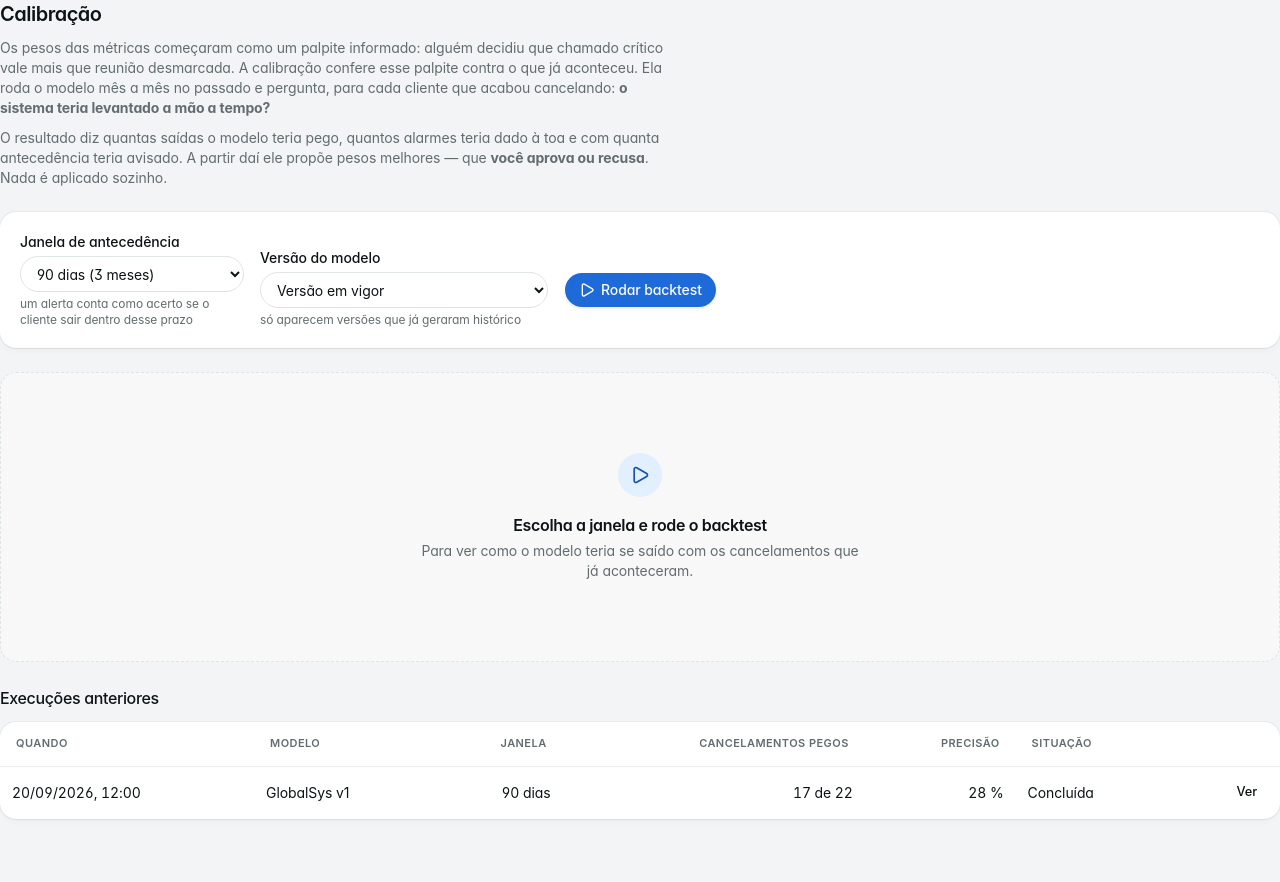
Test case: tela de calibração › aceitar uma, aceitar todas e manter os pesos atuais
The width and height of the screenshot is (1280, 882).
Click the button "Rodar backtest".
click(640, 290)  # box [564,272,717,308]
(page scrolled)
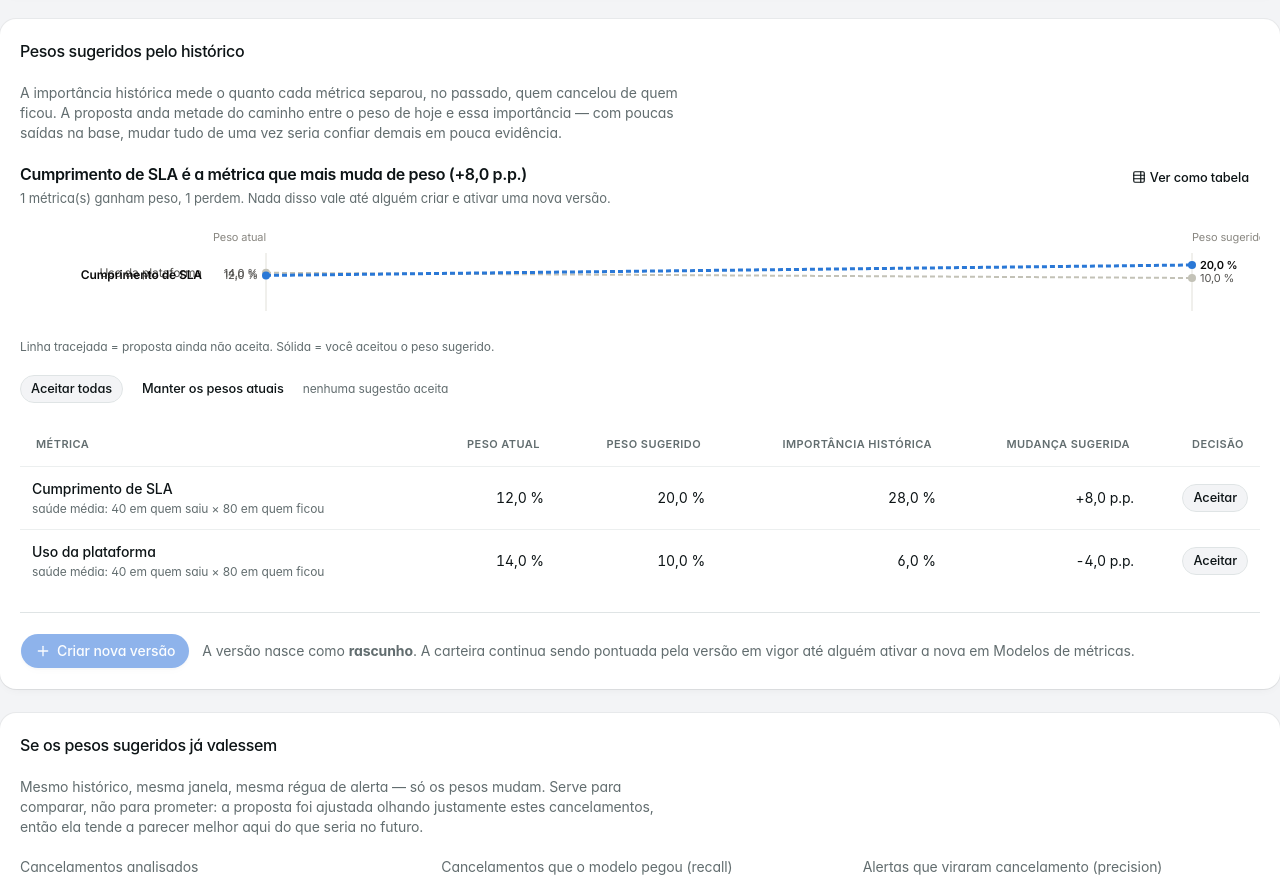
Click the button "Aceitar" in the row of "28,0 %".
click(1215, 498)  # box [1182,484,1248,512]
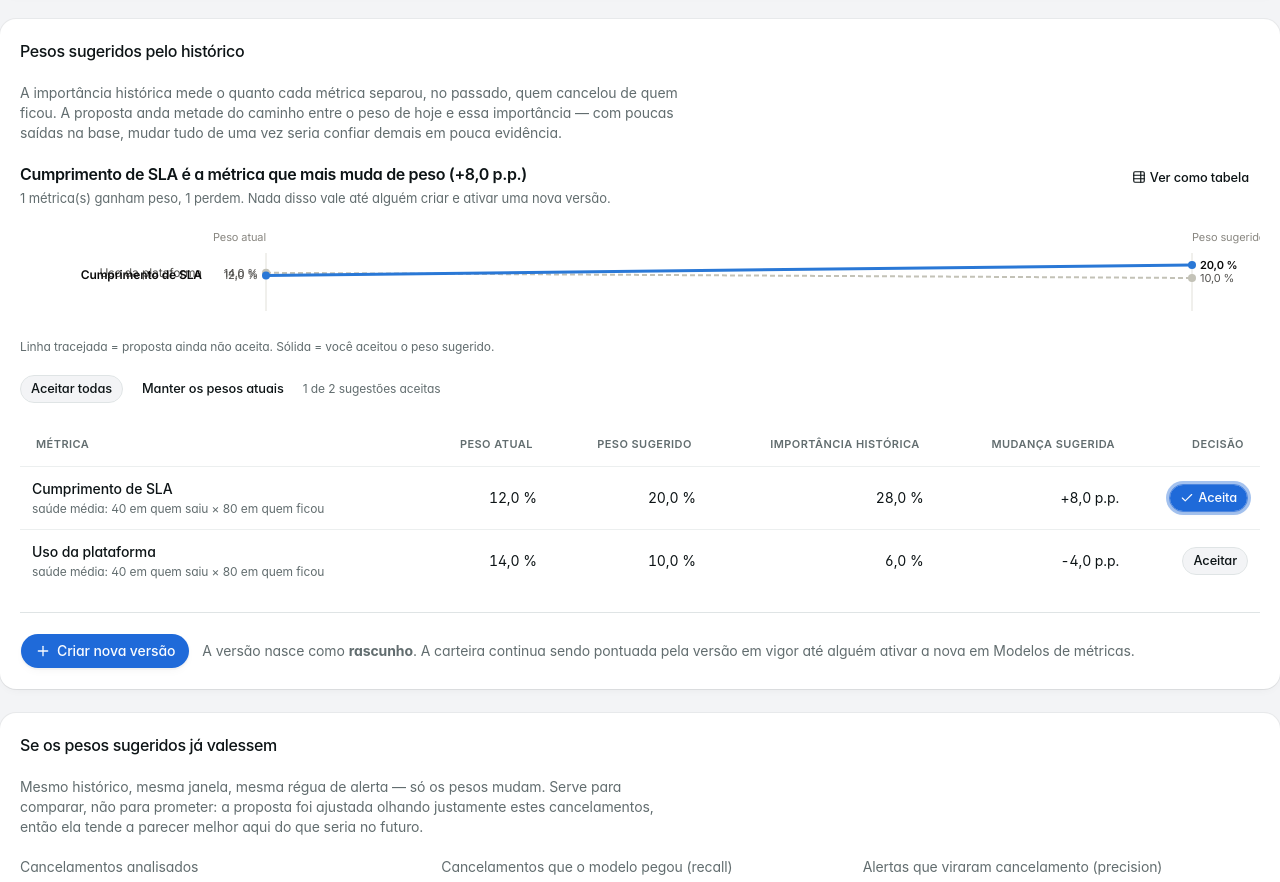
Expected: the text "1 de 2 sugestões aceitas" is shown, [303,381,440,397]
Click the button "Aceitar todas".
click(72, 389)  # box [20,375,123,403]
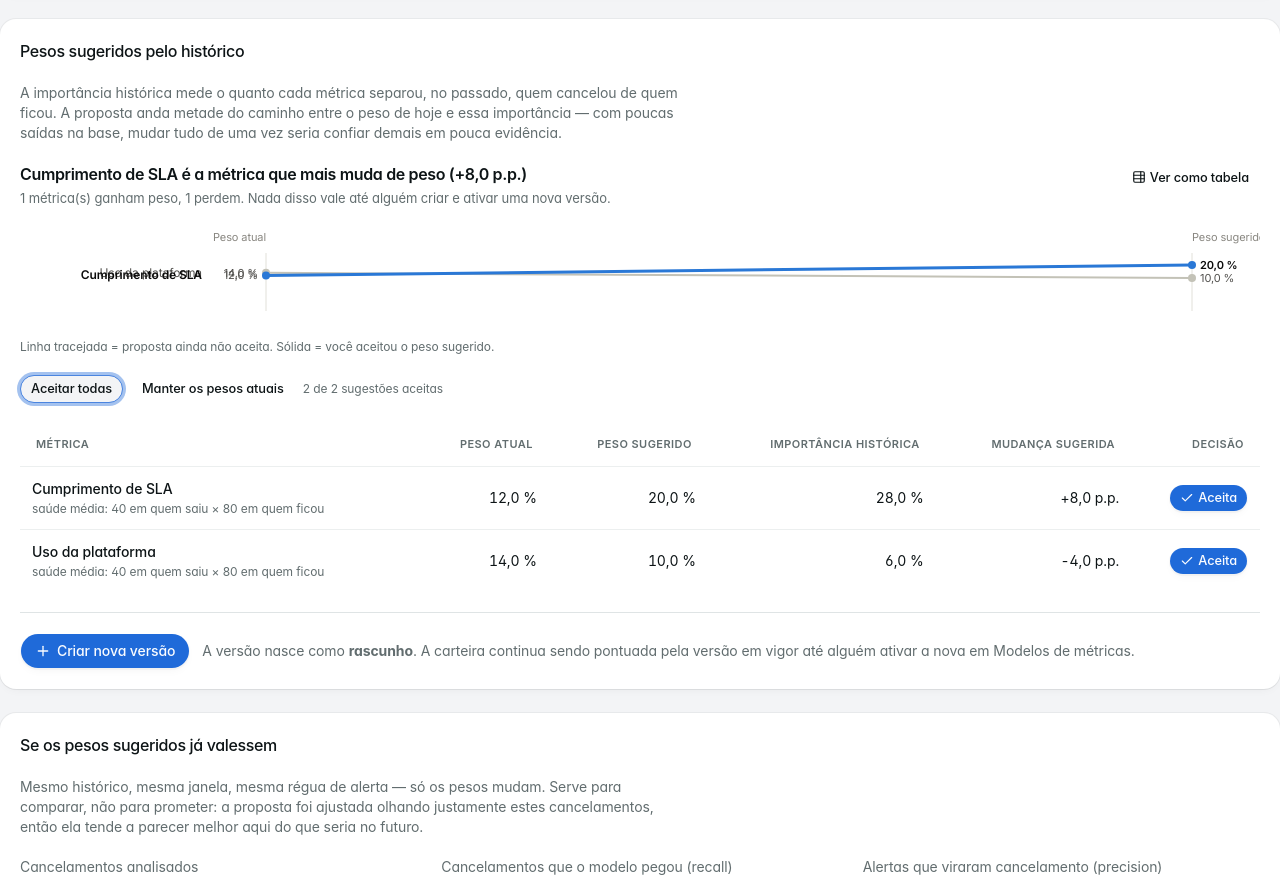
Expected: the text "2 de 2 sugestões aceitas" is shown, [303,381,443,397]
Click the button "Manter os pesos atuais".
click(213, 389)  # box [131,375,295,403]
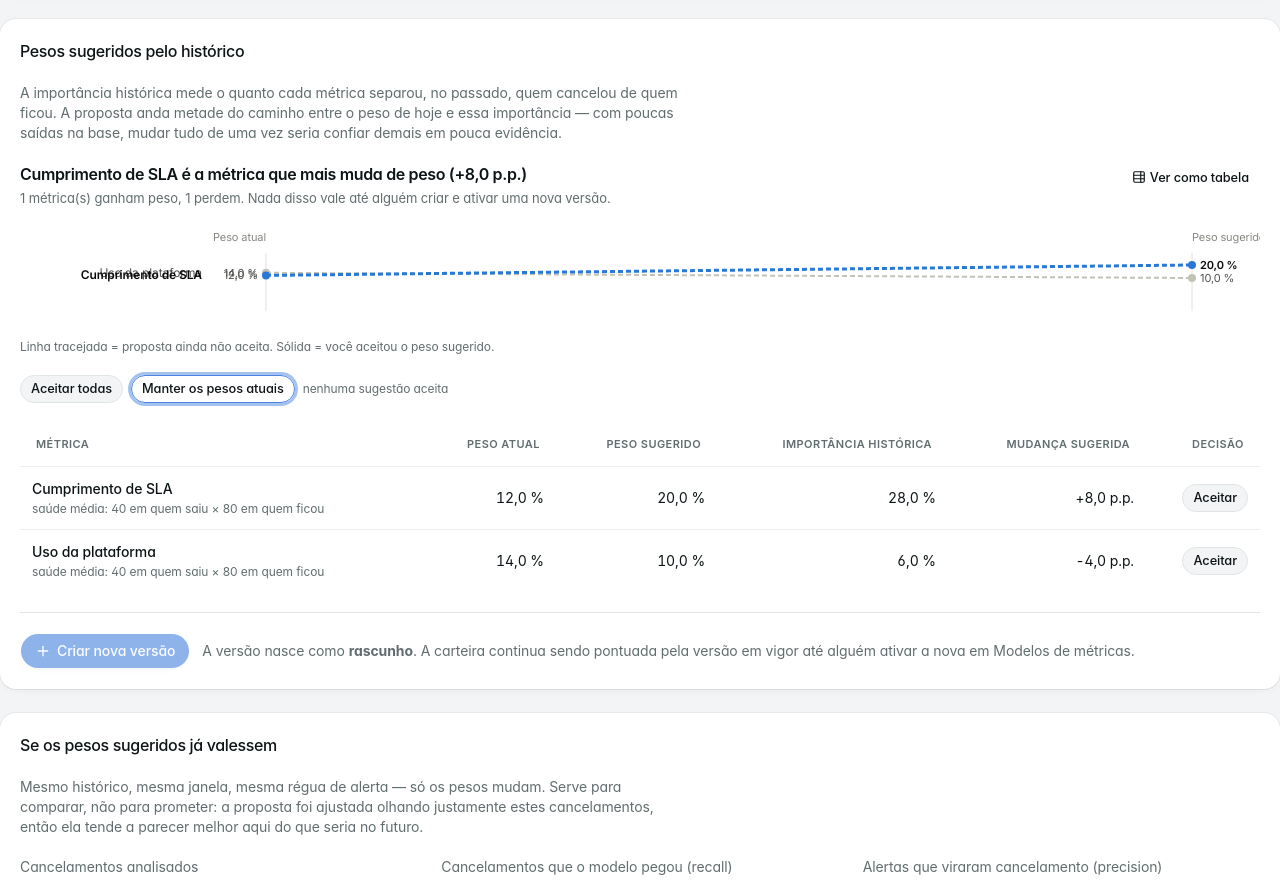
Expected: the text "nenhuma sugestão aceita" is shown, [303,381,448,397]
